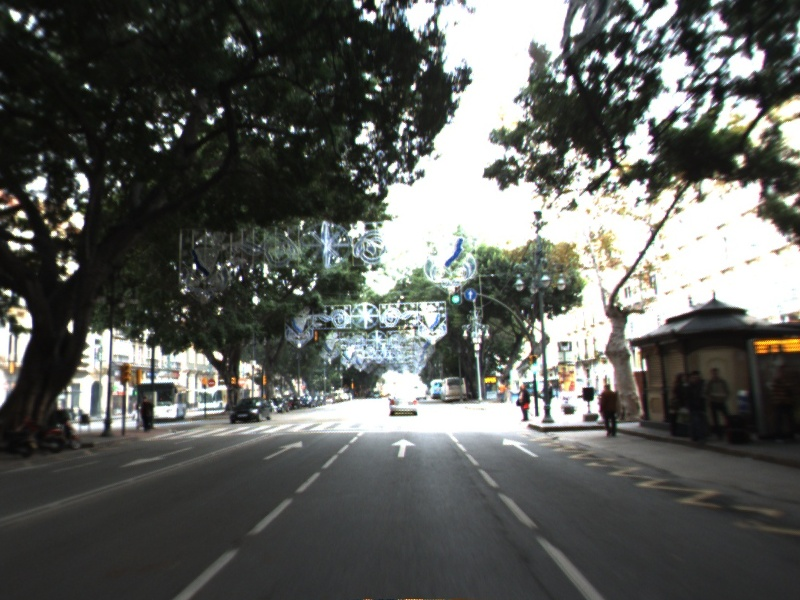STRAIGHT: (261, 439, 305, 462), (500, 436, 541, 459), (389, 436, 418, 459)
